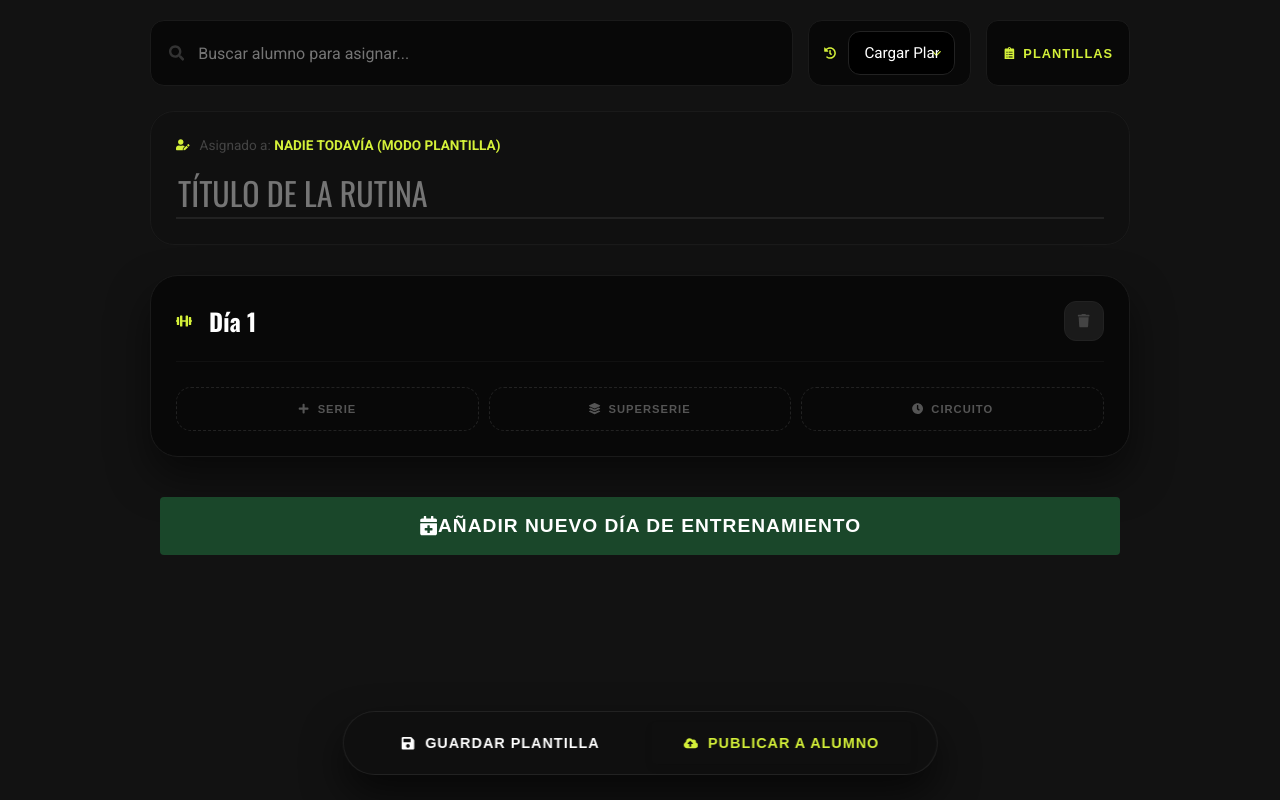
Test: AdminDashboard — buscar y seleccionar alumno › filtra alumnos por nombre, sin importar mayúsculas/minúsculas
In the field with placeholder "Buscar alumno para asignar...": (485, 53) [196,42,774,64], type "FEDE"
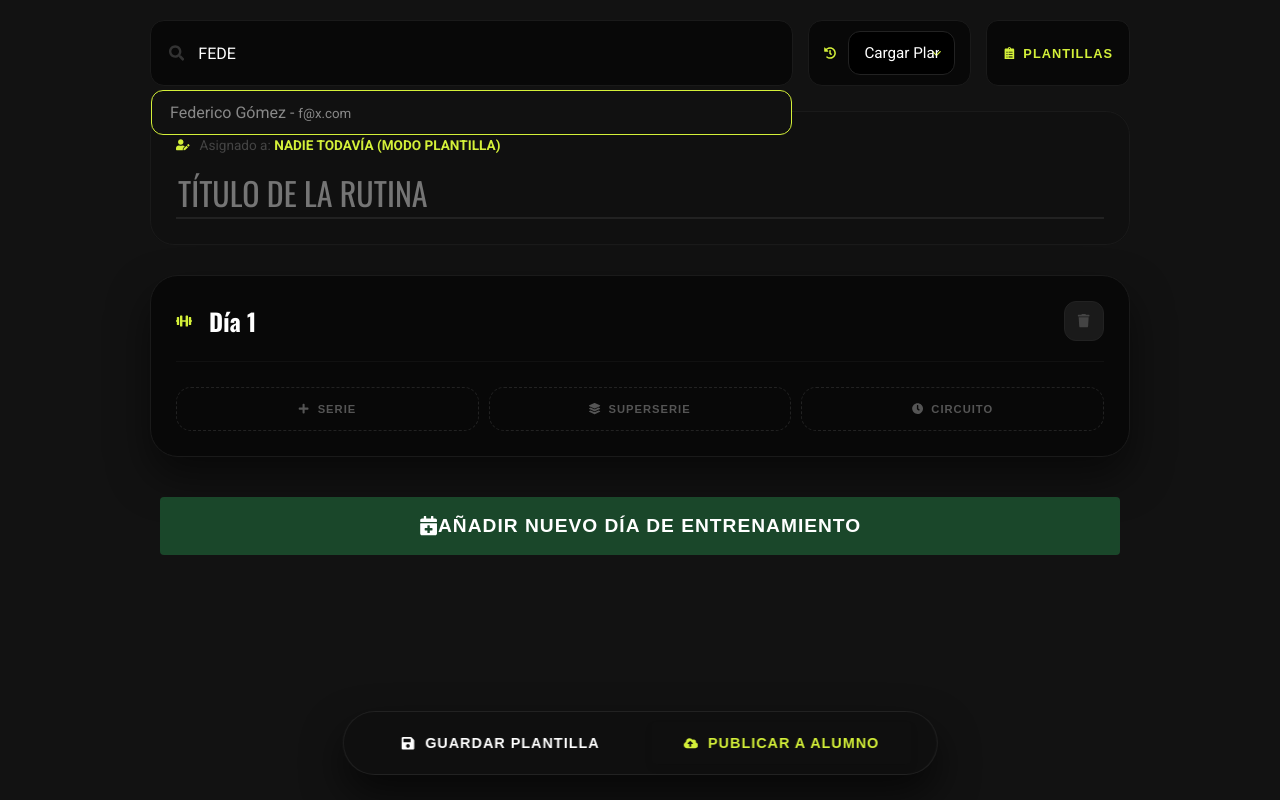
Now the text "Federico Gómez - f@x.com" is shown, box [170,103,351,122]
